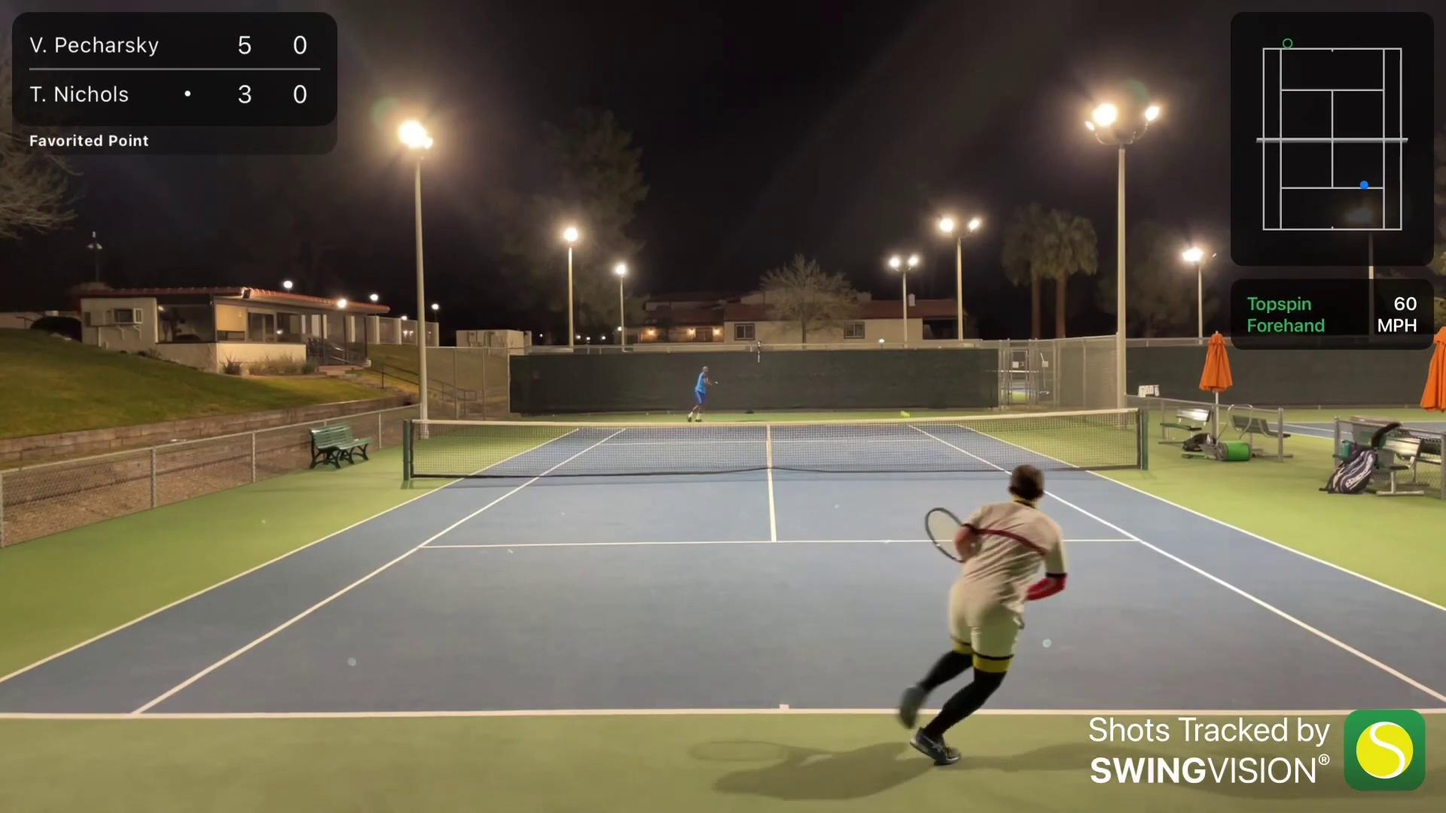ball: (898, 408, 912, 423)
